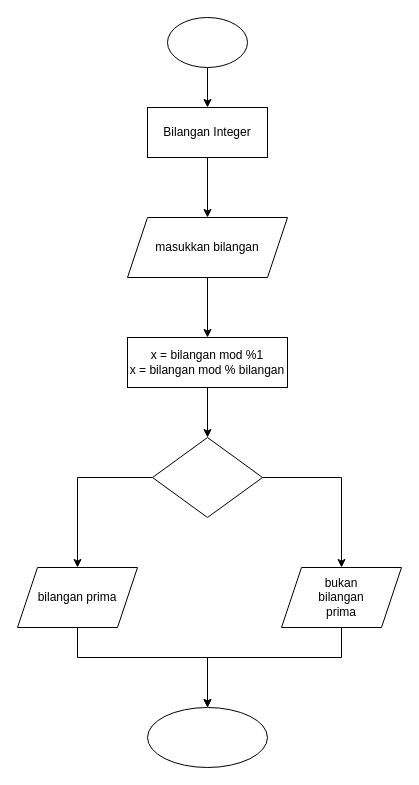
Image size: 419x785. Some labels were removed from this diagram. The shapes that lost their labels are listed below. From the top down, each one's centre as x and y in pixels, then its label:
At pixel 207 42: "Mulai".
At pixel 207 477: "x = 0 AND Y =0".
At pixel 207 737: "Selesai".
